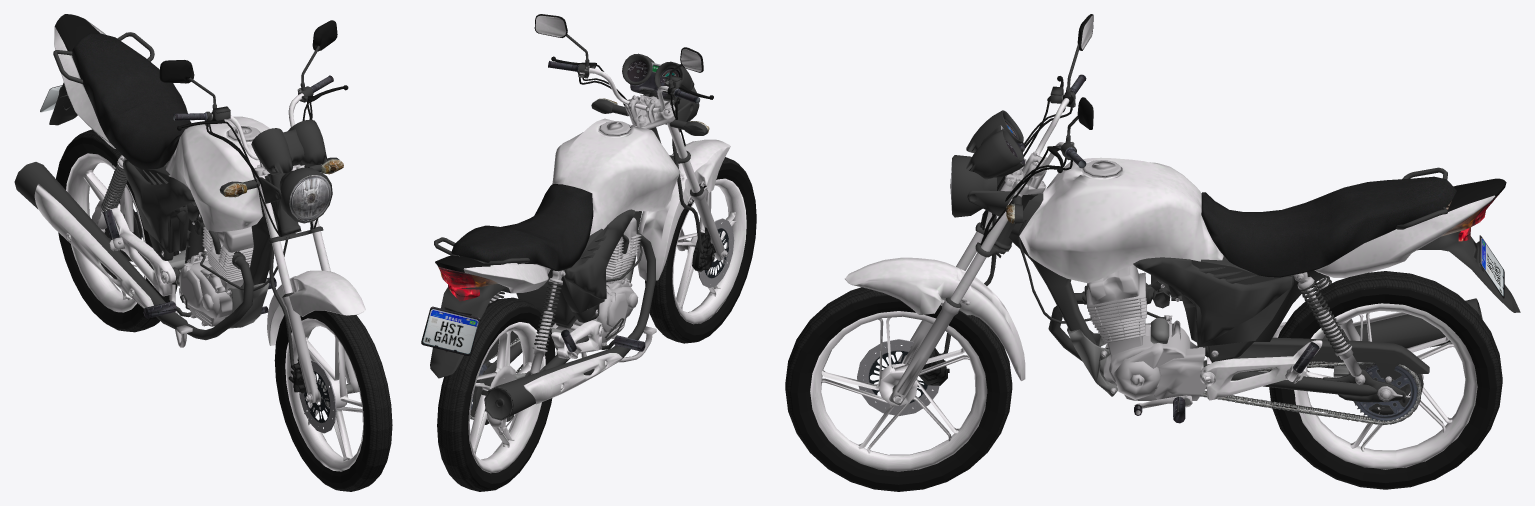
File: Hando BF 150.fbx
The picture shows the model from 3 angles, left to right: view 1: azimuth 30°, elevation 25°; view 2: azimuth 150°, elevation 25°; view 3: azimuth 270°, elevation 25°; orthographic projection. The views are drawn at different scales.
Visible parts, largest first — view 1: BodyMesh, HandleMesh, BodyMesh.001, FrontWheelMesh, RearWheelMesh, FrontWheelMesh.001, RearWheelMesh.001, Mudguard, DirtGuardMesh, SwingArmMesh, TurningLights, TailSection; view 2: BodyMesh, BodyMesh.001, RearWheelMesh, HandleMesh, FrontWheelMesh, RearWheelMesh.001, Mudguard, FrontWheelMesh.001, SwingArmMesh, DirtGuardMesh, TailSection, Plate (+1 smaller); view 3: BodyMesh, BodyMesh.001, RearWheelMesh, FrontWheelMesh, HandleMesh, SwingArmMesh, FrontWheelMesh.001, RearWheelMesh.001, Mudguard, DirtGuardMesh, TailSection, Plate.
Part boxes in pixels (x1,y1,x2,y2): BodyMesh: (14,14,301,347); HandleMesh: (159,20,348,294); BodyMesh.001: (54,20,296,296); FrontWheelMesh: (274,310,392,491); RearWheelMesh: (56,129,179,332); FrontWheelMesh.001: (285,318,363,471); RearWheelMesh.001: (66,153,145,312); Mudguard: (267,270,365,345); DirtGuardMesh: (269,200,359,403); SwingArmMesh: (98,155,206,281); TurningLights: (219,157,343,197); TailSection: (49,82,77,125); BodyMesh: (434,121,661,420); BodyMesh.001: (435,118,680,359); RearWheelMesh: (437,297,555,491); HandleMesh: (534,14,713,192); FrontWheelMesh: (645,157,756,343); RearWheelMesh.001: (468,322,545,473); Mudguard: (637,139,730,280); FrontWheelMesh.001: (672,178,746,324); SwingArmMesh: (470,270,588,434); DirtGuardMesh: (672,138,727,271); TailSection: (430,284,505,378); Plate: (421,306,480,355); BodyMesh: (993,160,1506,423); BodyMesh.001: (1019,157,1495,400); RearWheelMesh: (1269,271,1502,489); FrontWheelMesh: (785,287,1012,491); HandleMesh: (950,14,1093,305); SwingArmMesh: (1200,272,1429,425); FrontWheelMesh.001: (810,311,987,471); RearWheelMesh.001: (1294,303,1477,469); Mudguard: (845,257,1025,380); DirtGuardMesh: (889,213,996,405); TailSection: (1417,227,1520,312); Plate: (1479,235,1504,298).
Size of the model in its own units: 0.6553 by 1.34 by 2.08.
